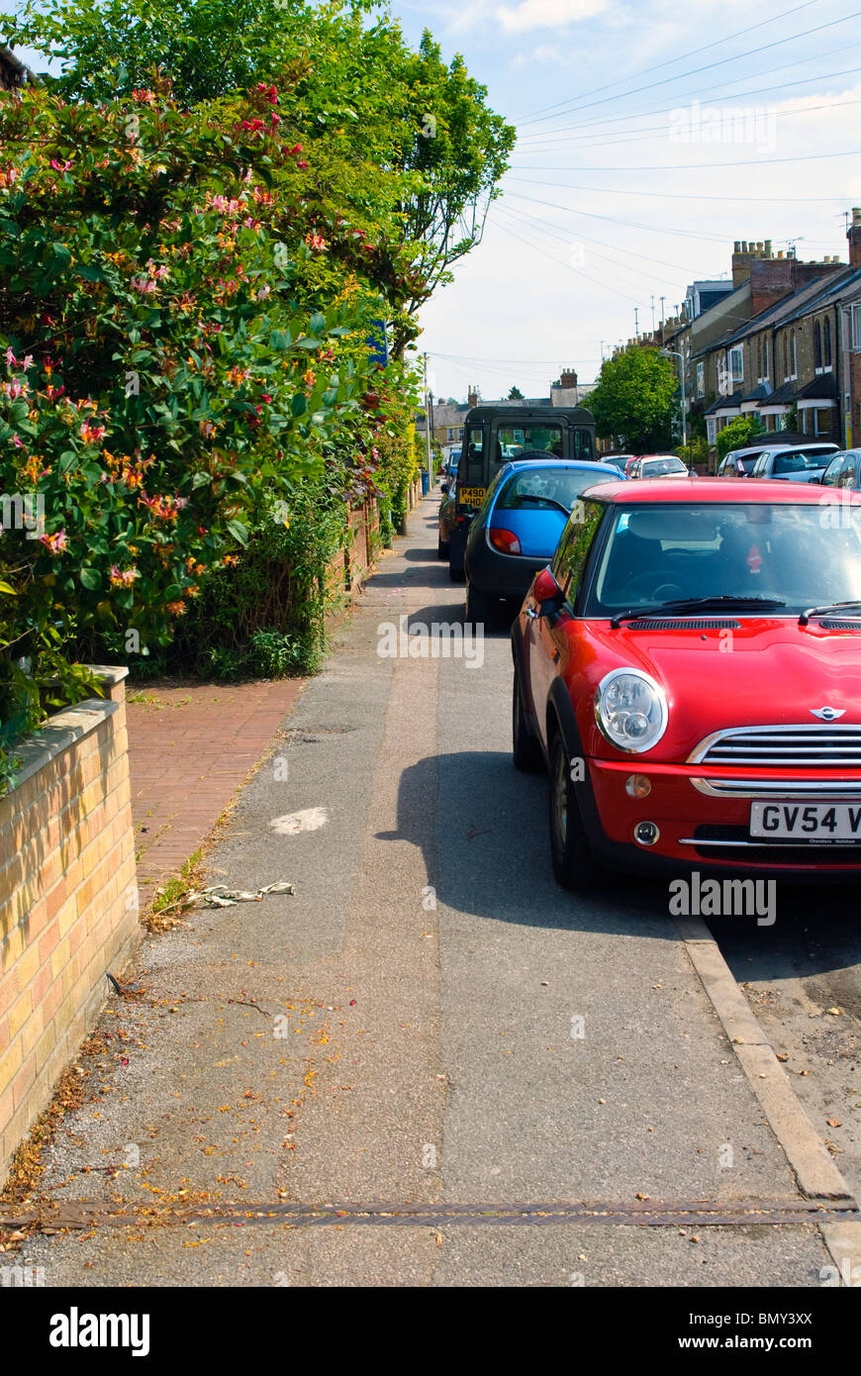Car: (512, 474, 861, 934)
